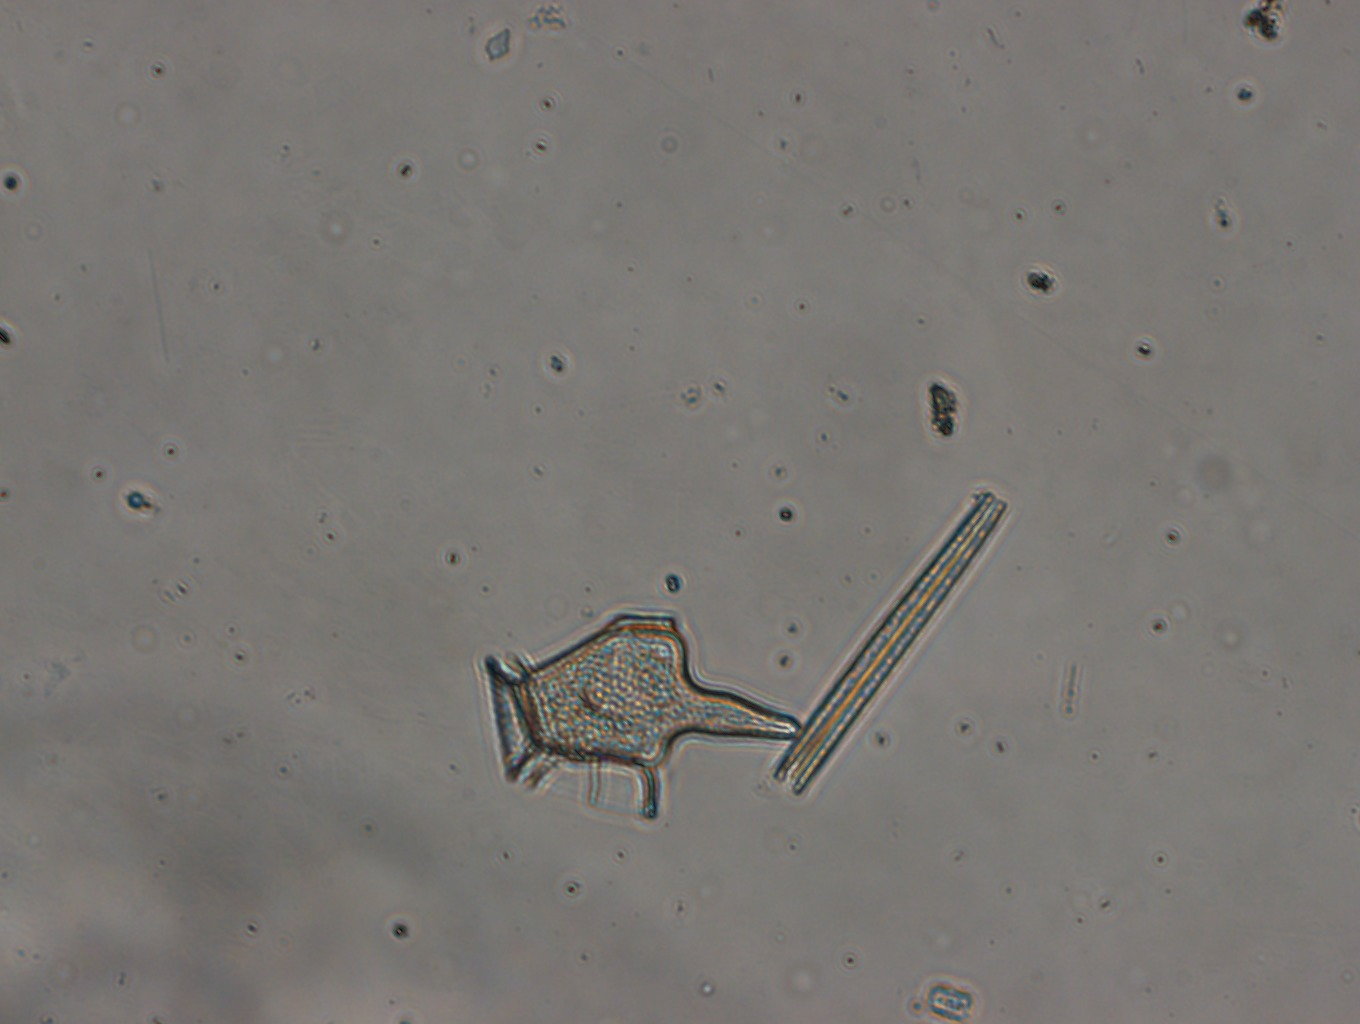dinophysis caudata: (467, 599, 802, 823)
